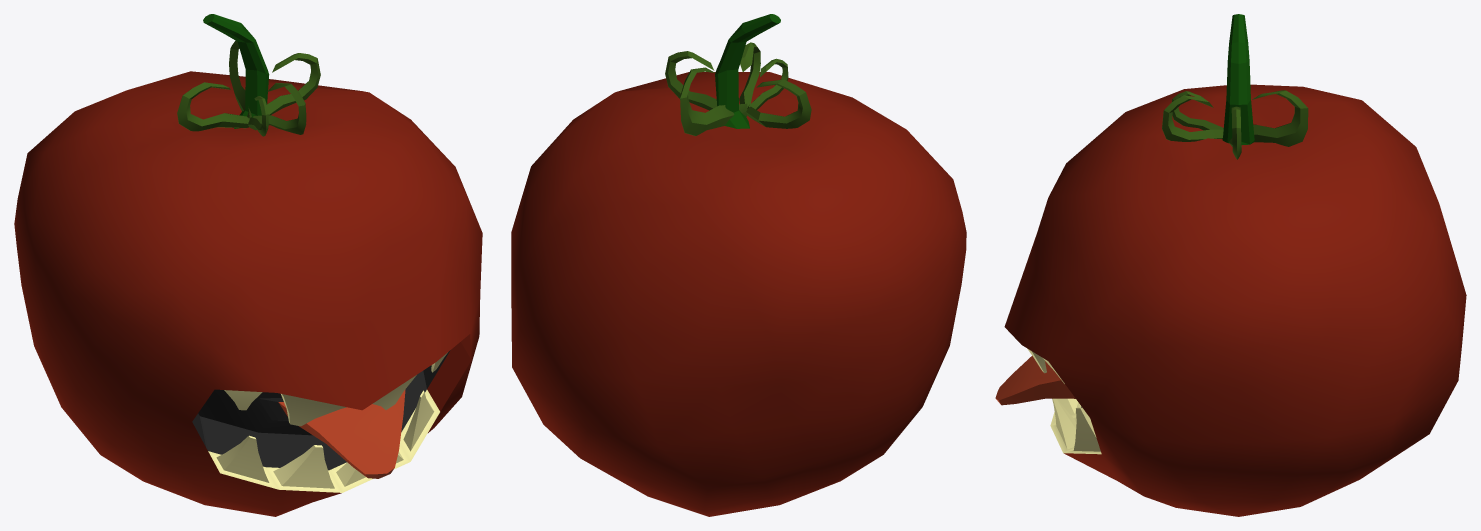
Rendered from domtes.fbx.
3 renders of one model, left to right at view 1: azimuth 30°, elevation 25°; view 2: azimuth 150°, elevation 25°; view 3: azimuth 270°, elevation 25°, orthographic. The views are drawn at different scales.
Visible parts, largest first — view 1: Icosphere; view 2: Icosphere; view 3: Icosphere.
Boxes of the visible parts, box(x1,y1,x2,y2) form: Icosphere: box(14, 14, 482, 516); Icosphere: box(511, 14, 966, 516); Icosphere: box(995, 14, 1466, 516).
Size of the model in its own units: 59.17 by 68.55 by 63.22.
